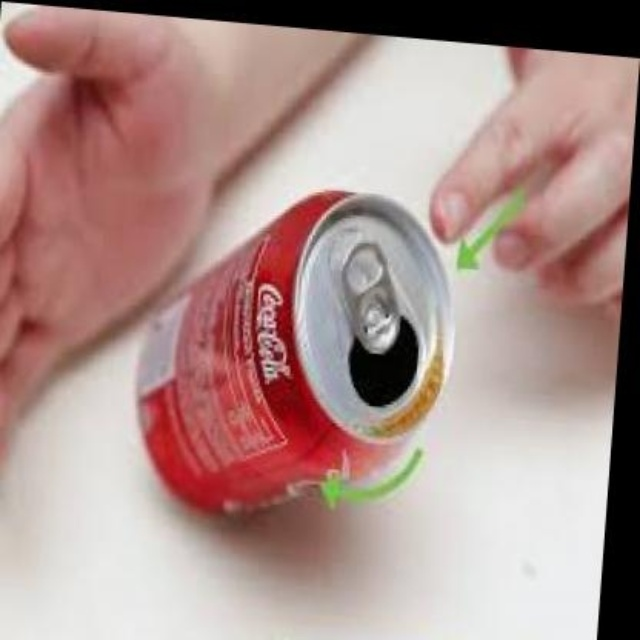trash: (140, 191, 451, 512)
